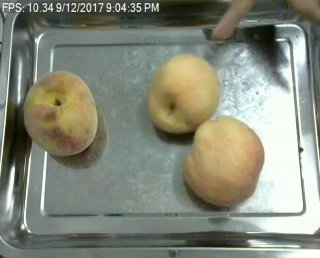Peach: (183, 115, 264, 205), (25, 69, 100, 157), (148, 51, 220, 132)
